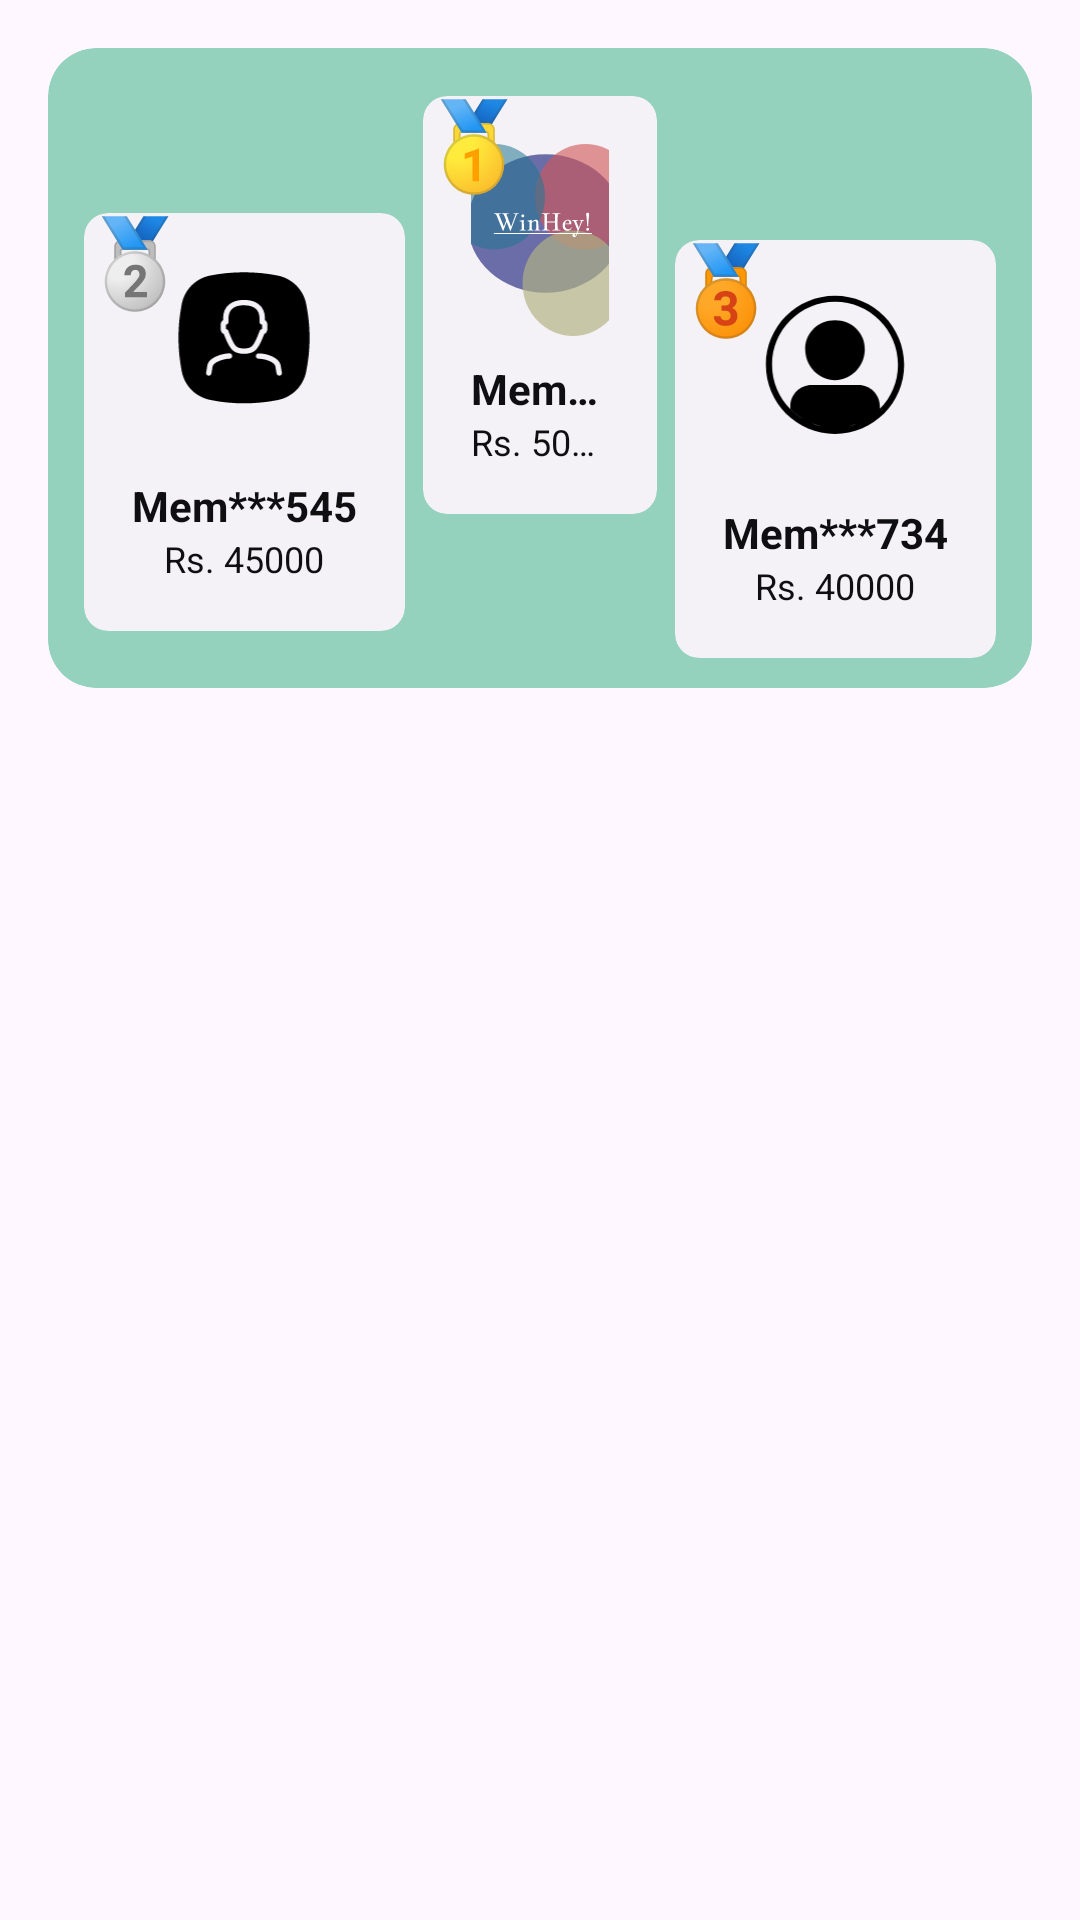

Screen size 1080px×1920px. Icon name, then its center in pixels as (x=x, y=y):
place medal: (x=474, y=147), (x=135, y=264), (x=726, y=291)
profile: (x=835, y=364)
profile holder: (x=244, y=338)
